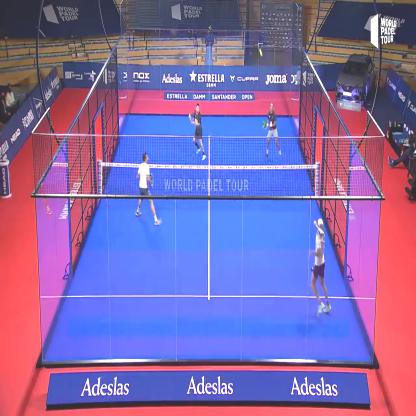ball: (258, 43, 264, 60)
